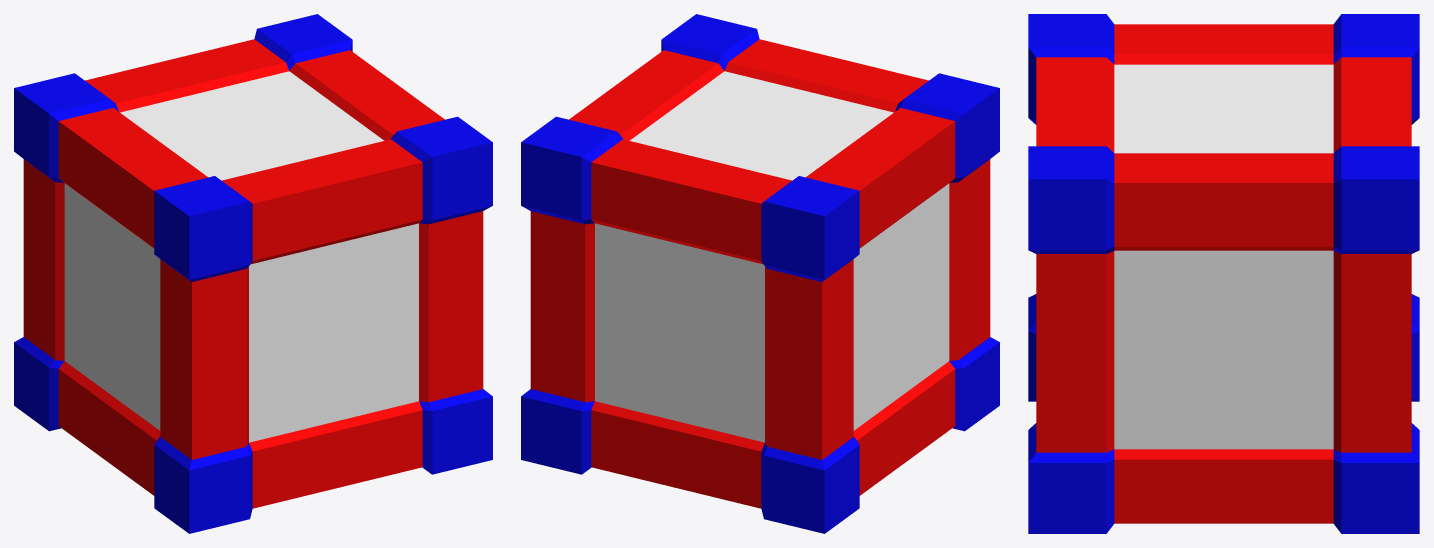
The model's file is Corto.glb.
The picture shows the model from 3 angles, left to right: view 1: azimuth 30°, elevation 25°; view 2: azimuth 150°, elevation 25°; view 3: azimuth 270°, elevation 25°; orthographic projection. The views are drawn at different scales.
Parts seen in each view (by area): view 1: Corto; view 2: Corto; view 3: Corto.
Part boxes in pixels (<box>): Corto: <box>14,14,492,533</box>; Corto: <box>521,14,999,533</box>; Corto: <box>1028,14,1419,533</box>.
Bounding box in the file's own units: 1 × 1 × 1.
